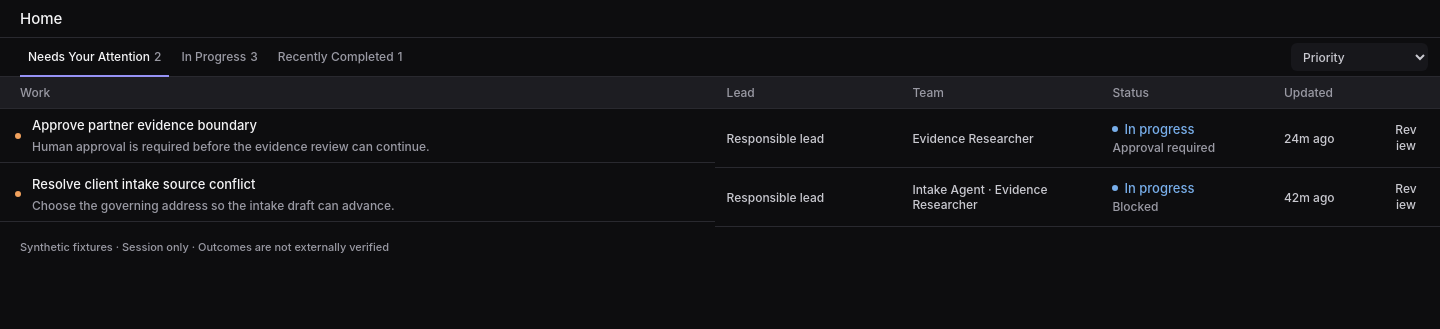
Test: STR-1 Home coordination collection › filters accurate counted views and applies contextual ordering
Expected: the number of rows is 3, [0,77,1439,108]; [0,108,1439,168]; [0,168,1439,226]
Select "Oldest attention" in the dropdown named "Sort Home" at (1360, 57), box [1291,43,1428,71]
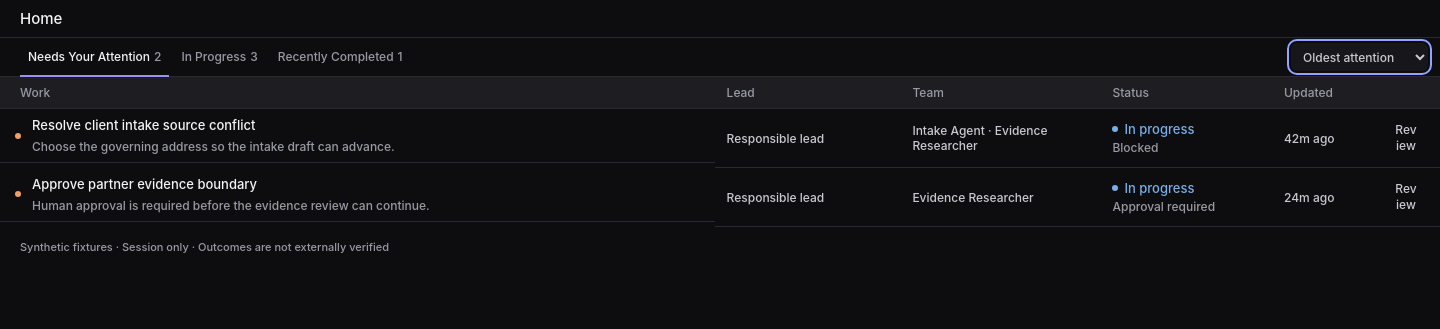
Expected: the row that starts with "Resolve client intake source conflict" is shown, [24,109,715,162]
Click the tab with aria-label "In Progress, 3 items".
click(220, 57)  # box [173,38,266,76]
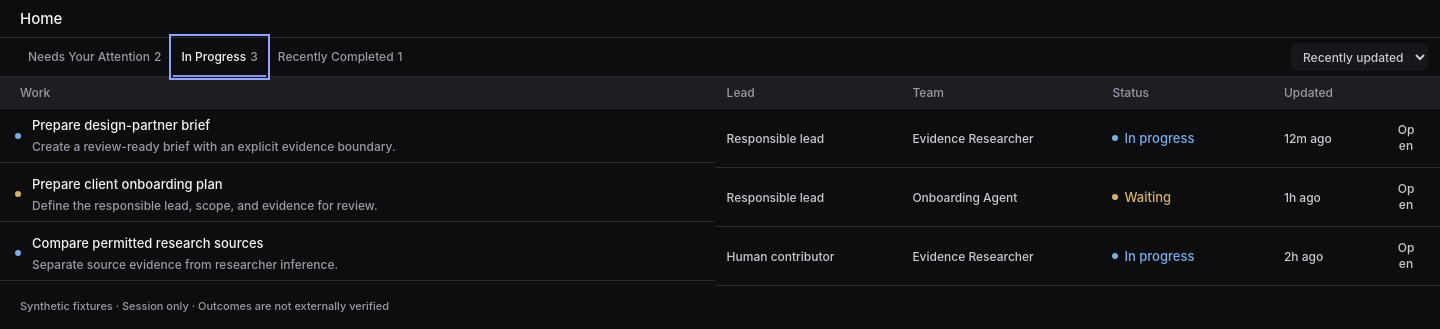
Expected: the number of rows is 4, [0,77,1439,108]; [0,108,1439,168]; [0,168,1439,226]; [0,226,1439,286]
Expected: the button "Approve partner evidence boundary" is gone
